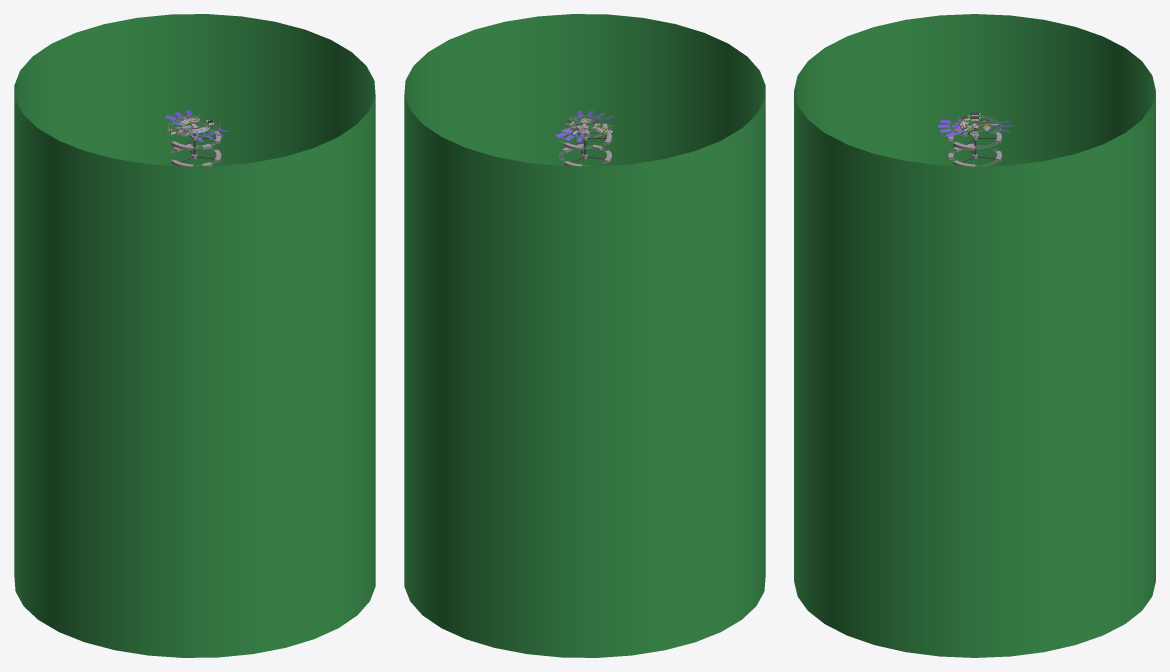
File: Space_Station_Assets_2022-06-29C.fbx
The picture shows the model from 3 angles, left to right: view 1: azimuth 30°, elevation 25°; view 2: azimuth 150°, elevation 25°; view 3: azimuth 270°, elevation 25°; orthographic projection.
Parts seen in each view (by area): view 1: ONeillCylinder01, SecSpaceStation01; view 2: ONeillCylinder01, SecSpaceStation01; view 3: ONeillCylinder01, SecSpaceStation01.
Part boxes in pixels (x1,y1,x2,y2): ONeillCylinder01: [14, 14, 375, 657]; SecSpaceStation01: [169, 125, 221, 166]; ONeillCylinder01: [404, 14, 765, 657]; SecSpaceStation01: [559, 125, 611, 166]; ONeillCylinder01: [794, 14, 1155, 657]; SecSpaceStation01: [948, 125, 1001, 166].
Bounding box in the file's own units: 35545 × 53239 × 35545.
